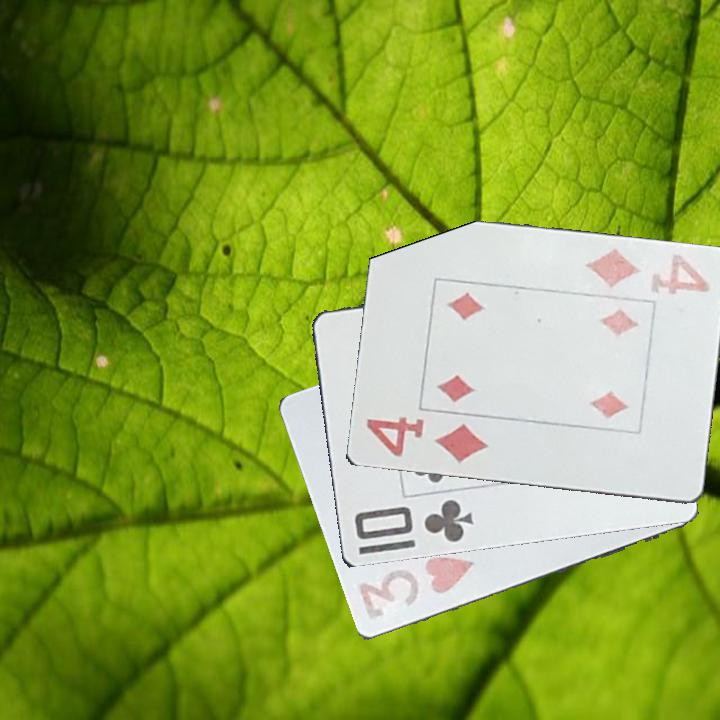3h: (355, 553, 477, 625)
4d: (582, 245, 712, 303), (362, 413, 492, 467)
Tc: (350, 496, 477, 546)
